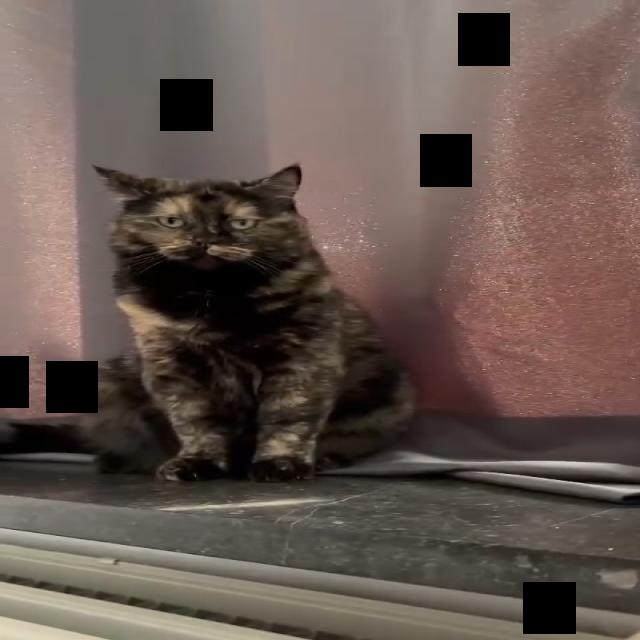authorized: (76, 162, 419, 483)
